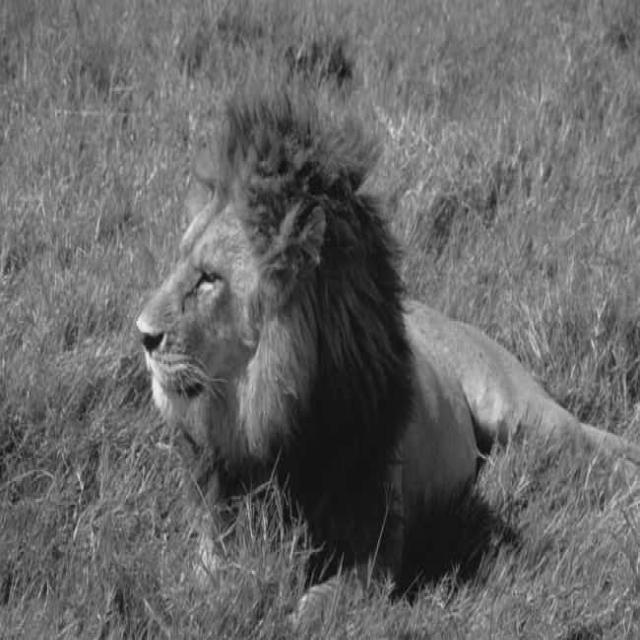Lion: (146, 104, 522, 545)
